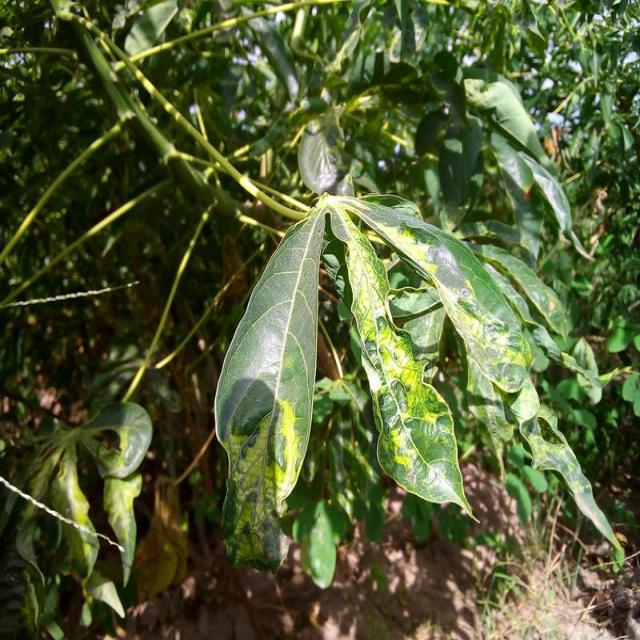cassava leaf: (213, 190, 623, 582), (321, 198, 479, 524), (213, 206, 326, 573)
